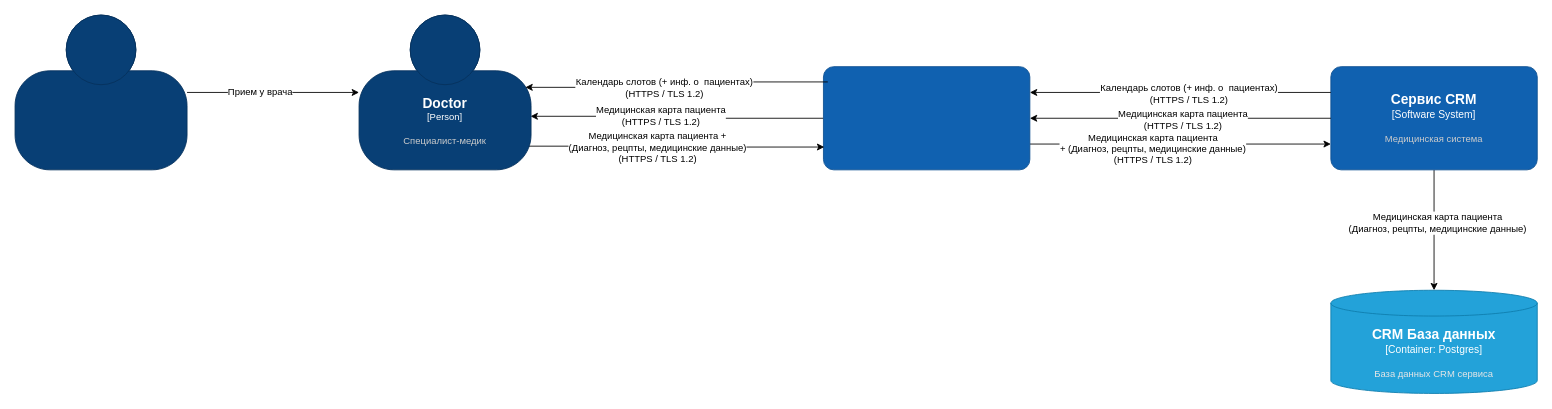
This 1552x409 diagram has some shape labels left out. The box of each missing label's shape, as (x1, y1, x2, y2) in pixels:
Patient [Person] Пациент: (14, 14, 187, 170)
Web приложение [Software System] Web приложение - доступ к CRM системе: (823, 66, 1030, 170)
